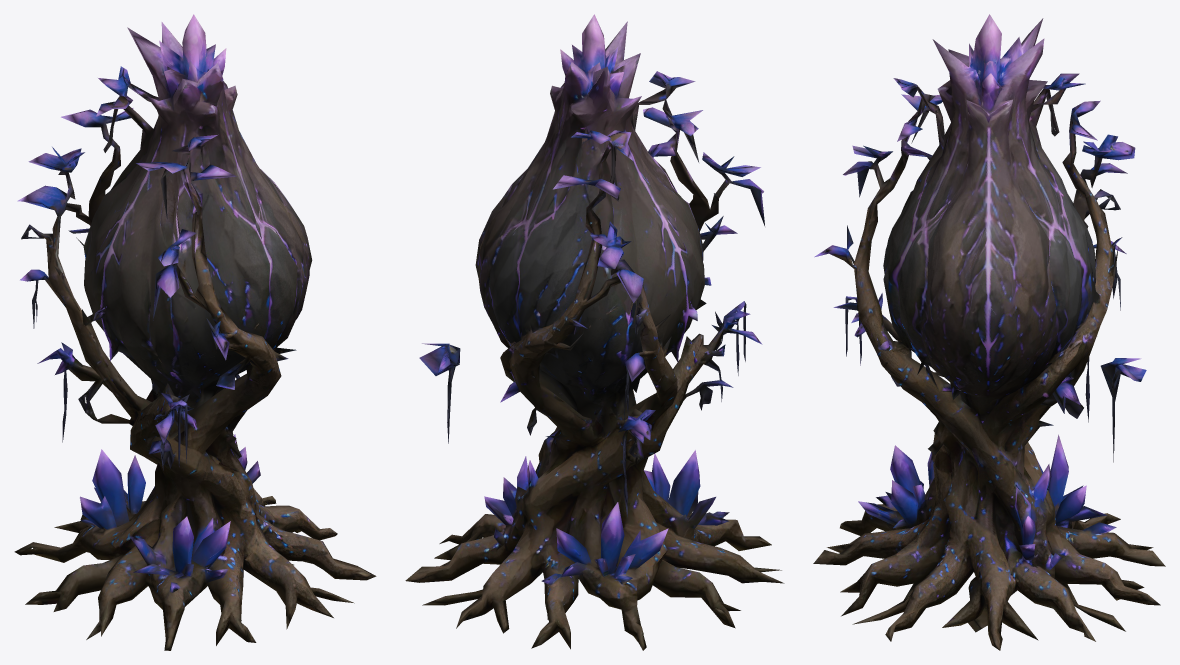
The model's file is bloomseed.fbx.
3 views of the same model, side by side, from view 1: azimuth 30°, elevation 25°; view 2: azimuth 150°, elevation 25°; view 3: azimuth 270°, elevation 25° (orthographic).
Parts seen in each view (by area): view 1: tripo_node_e4d7b7df; view 2: tripo_node_e4d7b7df; view 3: tripo_node_e4d7b7df.
Boxes of the visible parts, left/top/right/bottom form: tripo_node_e4d7b7df: left=14, top=14, right=376, bottom=650; tripo_node_e4d7b7df: left=405, top=14, right=784, bottom=650; tripo_node_e4d7b7df: left=813, top=14, right=1165, bottom=650.
Bounding box in the file's own units: 0.5487 × 0.9804 × 0.5475.
